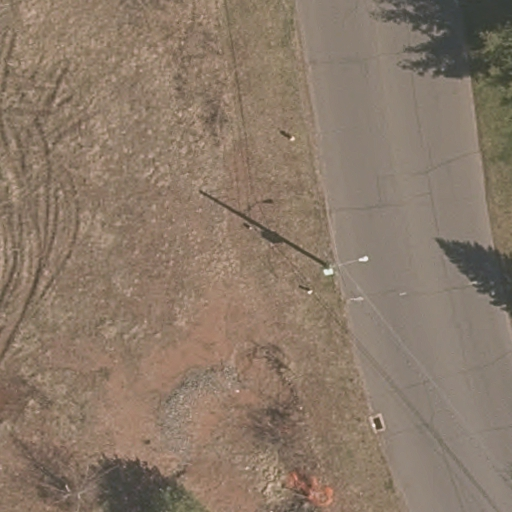DT: (304, 249, 372, 286)
